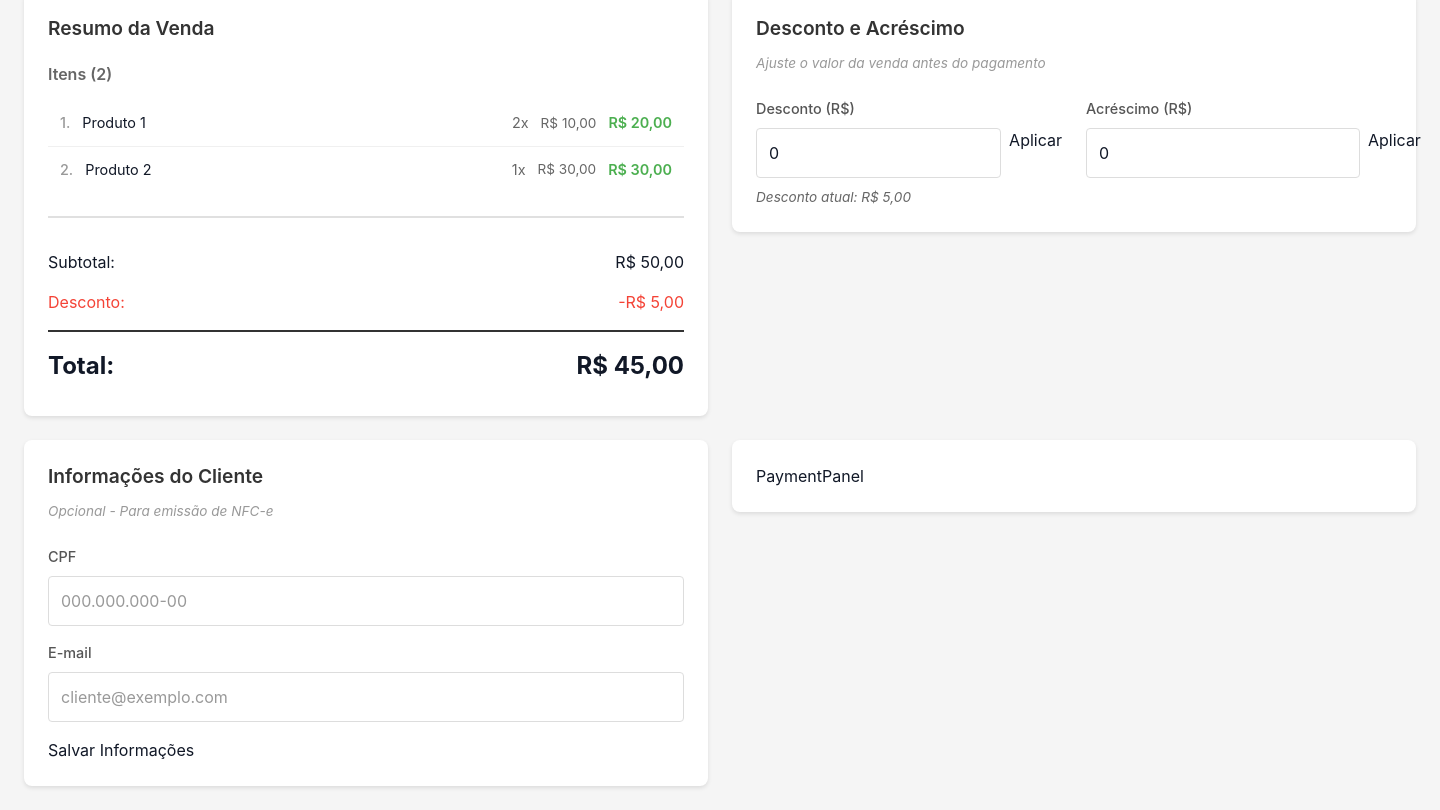
Test: POSCheckoutView › Customer Information › should validate invalid email
This screenshot has width=1440, height=810.
(page scrolled)
Type "invalid-email" into the field with id "email" at [366, 696], box [48,672,684,722]
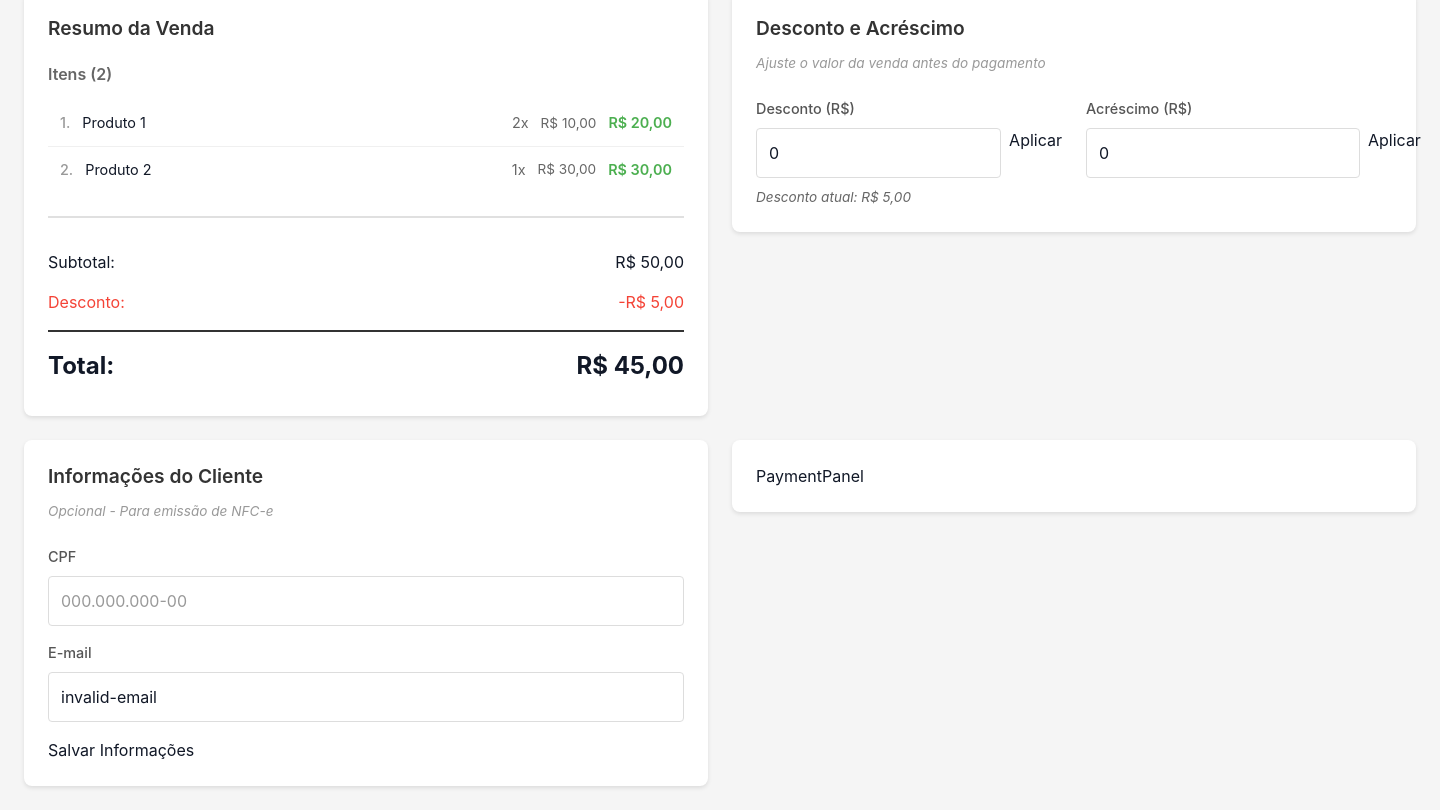
Leave the field with id "email", box [48,672,684,722]
(page scrolled)
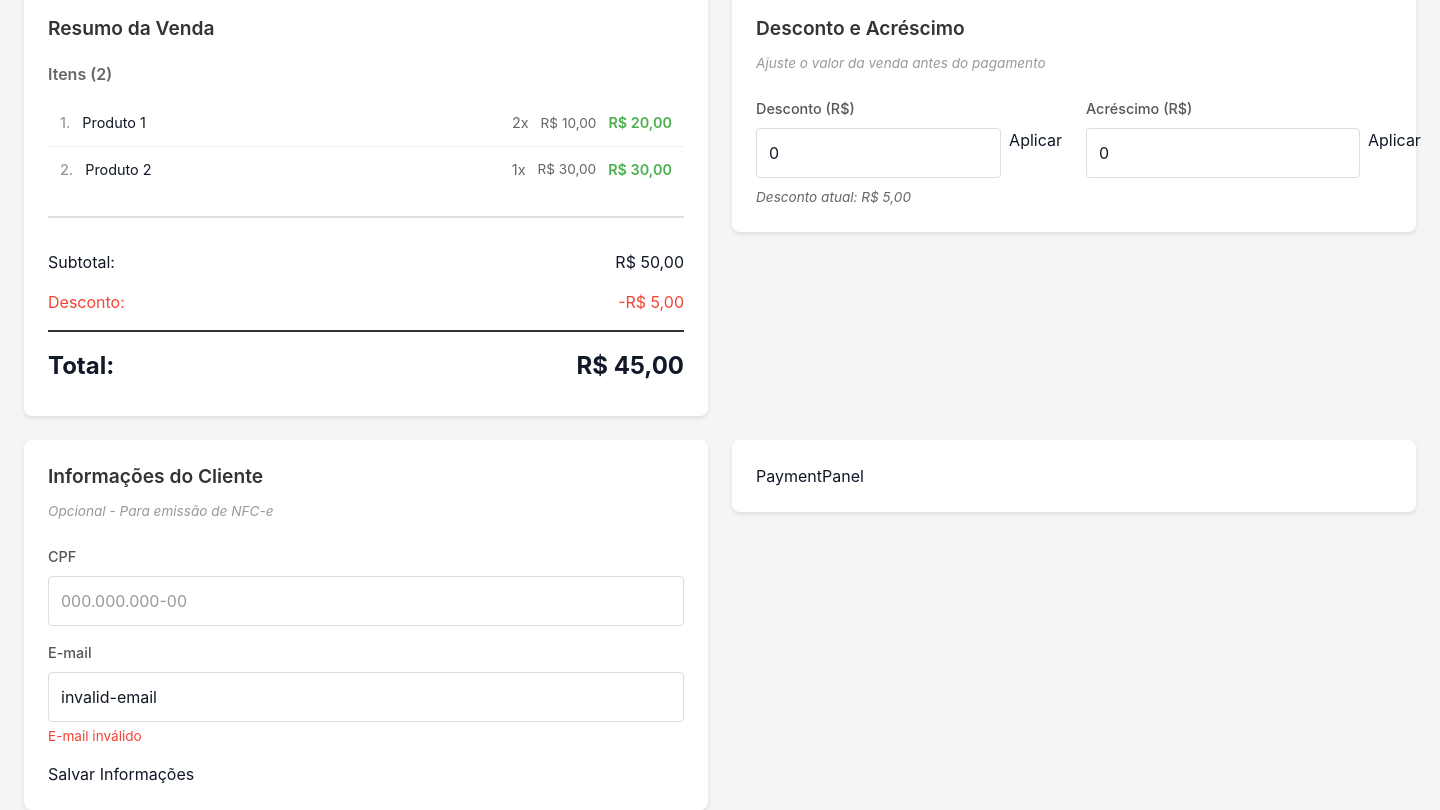
Expected: the text "E-mail inválido" is shown, [48,728,142,744]
